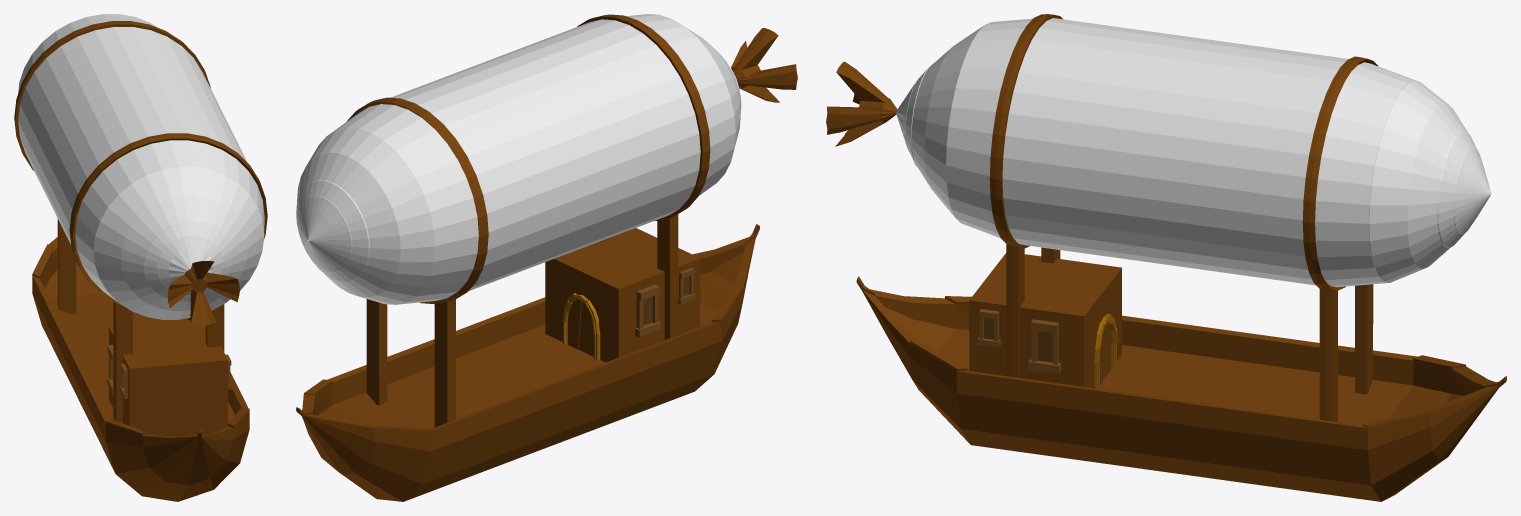
File: Airship.fbx
The picture shows the model from 3 angles, left to right: view 1: azimuth 30°, elevation 25°; view 2: azimuth 150°, elevation 25°; view 3: azimuth 270°, elevation 25°; orthographic projection. The views are drawn at different scales.
Visible parts, largest first — view 1: Cylinder.130, Cube.146, Cube.145; view 2: Cylinder.130, Cube.146, Cube.145, Cube.144, Cube.143; view 3: Cylinder.130, Cube.146, Cube.145, Cube.088, Cube.144, Cube.085.
Part boxes in pixels (x1,y1,x2,y2): Cylinder.130: (14,14,267,423); Cube.146: (32,237,249,501); Cube.145: (109,320,227,436); Cylinder.130: (296,14,797,427); Cube.146: (296,224,759,501); Cube.145: (545,228,700,362); Cube.144: (563,293,600,360); Cube.143: (635,284,660,337); Cylinder.130: (826,14,1491,422); Cube.146: (856,276,1506,501); Cube.145: (969,253,1121,388); Cube.088: (1028,319,1061,373); Cube.144: (1094,314,1117,388); Cube.085: (977,309,1000,347).
Size of the model in its own units: 1032 by 1415 by 2077.
